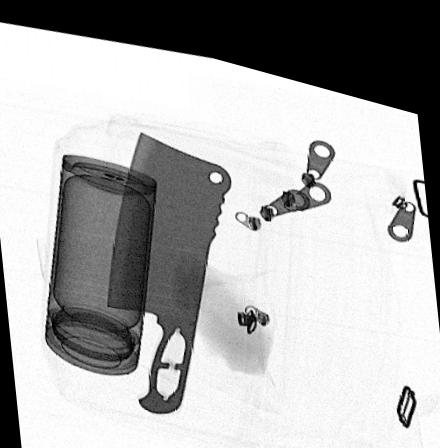Knife: (104, 122, 235, 408)
